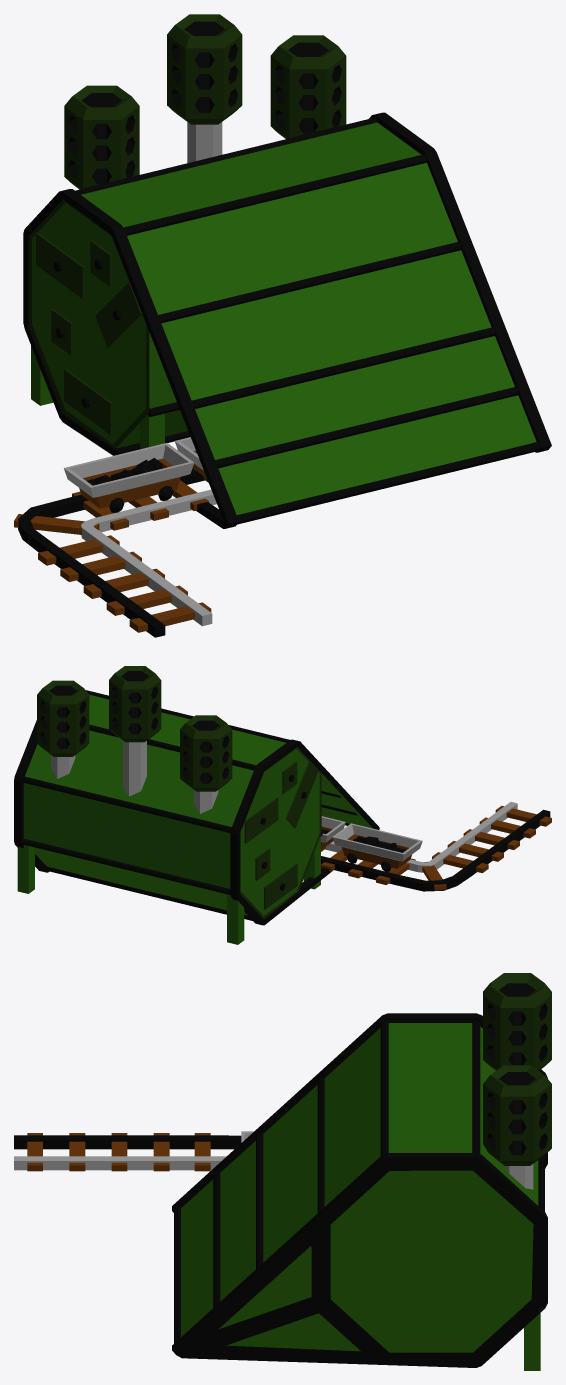
Rendered from Forge_fouth_level.fbx.
The picture shows the model from 3 angles, top to bottom: view 1: azimuth 30°, elevation 25°; view 2: azimuth 150°, elevation 25°; view 3: azimuth 270°, elevation 25°; orthographic projection. The views are drawn at different scales.
Parts seen in each view (by area): view 1: Cone.001; view 2: Cone.001; view 3: Cone.001.
Boxes of the visible parts, box(x1,y1,x2,y2) form: Cone.001: box(14, 14, 551, 637); Cone.001: box(14, 666, 551, 944); Cone.001: box(14, 973, 551, 1370).
Size of the model in its own units: 3249 by 2166 by 3360.
